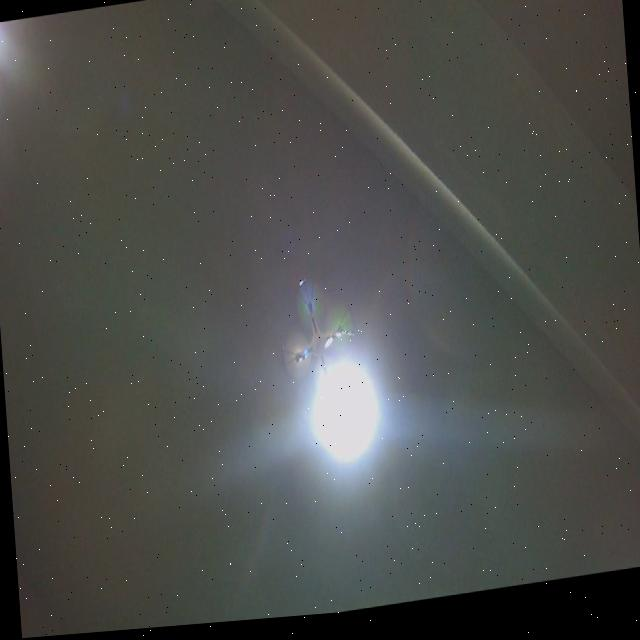drone: (271, 274, 362, 419)
